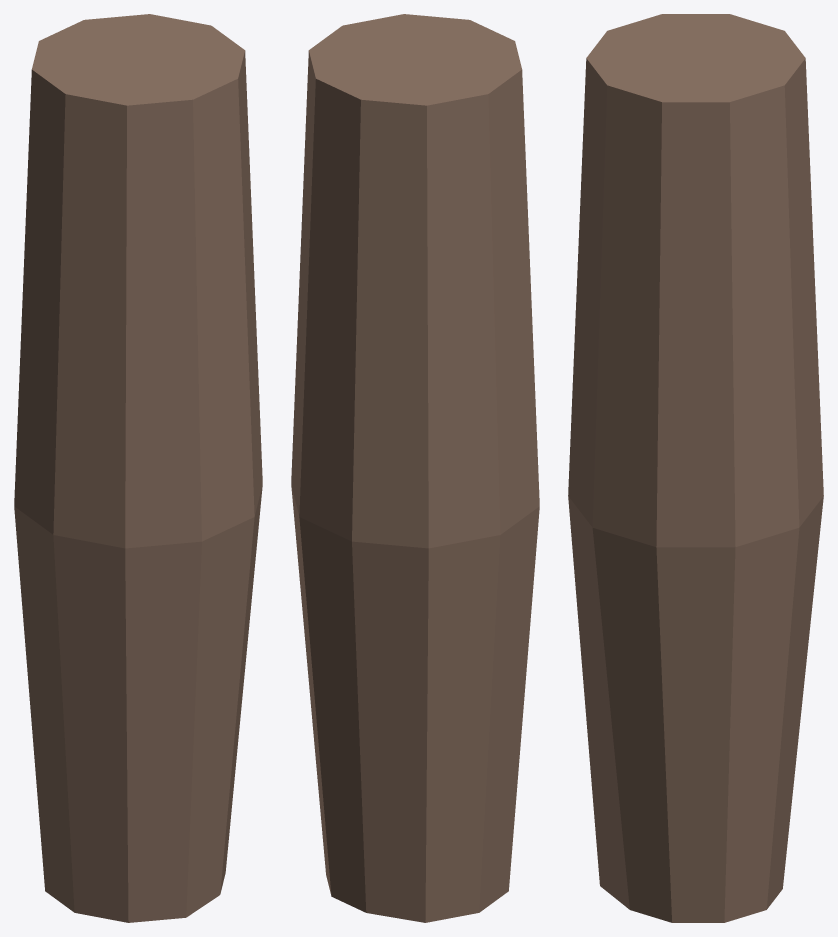
The model's file is Torch.fbx.
3 views of the same model, side by side, from view 1: azimuth 30°, elevation 25°; view 2: azimuth 150°, elevation 25°; view 3: azimuth 270°, elevation 25° (orthographic).
Visible parts, largest first — view 1: Torch; view 2: Torch; view 3: Torch.
Part boxes in pixels (x1=…): Torch: x1=14, y1=14, x2=262, y2=922; Torch: x1=291, y1=14, x2=539, y2=922; Torch: x1=568, y1=14, x2=823, y2=922.
Bounding box in the file's own units: 136 × 509 × 142.
